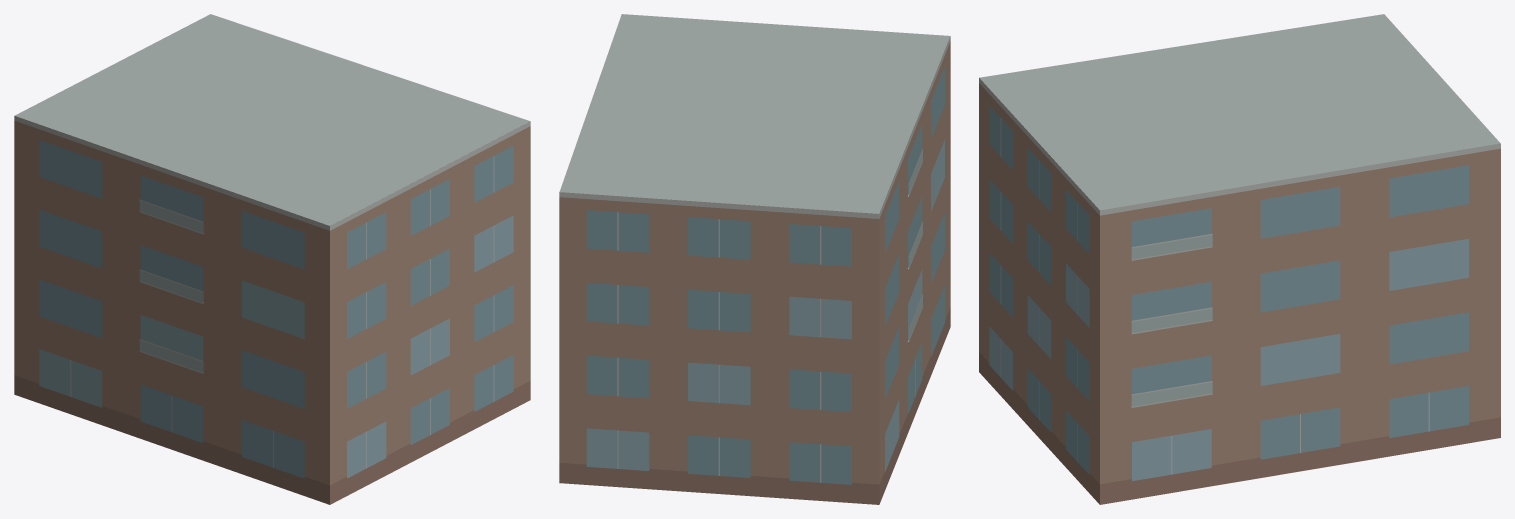
Rendered from survey-upis-32857799.glb.
The picture shows the model from 3 angles, left to right: view 1: azimuth 30°, elevation 25°; view 2: azimuth 150°, elevation 25°; view 3: azimuth 270°, elevation 25°; orthographic projection. The views are drawn at different scales.
Parts seen in each view (by area): view 1: survey-upis-32857799.tmp; view 2: survey-upis-32857799.tmp; view 3: survey-upis-32857799.tmp.
Boxes of the visible parts, <box> form: survey-upis-32857799.tmp: <box>14,14,530,504</box>; survey-upis-32857799.tmp: <box>559,14,950,504</box>; survey-upis-32857799.tmp: <box>979,14,1500,504</box>.
Size of the model in its own units: 20.12 by 14.05 by 22.58.
